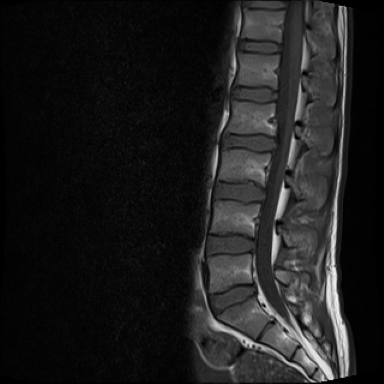Lumbar Disc Bulge (LDB): (204, 279, 260, 321), (214, 129, 282, 157)
Normal IVD: (202, 232, 260, 260), (211, 180, 270, 207), (222, 83, 281, 106), (231, 37, 285, 56)
Spinal Stenosis (SS): (266, 130, 285, 156), (247, 278, 263, 303)
